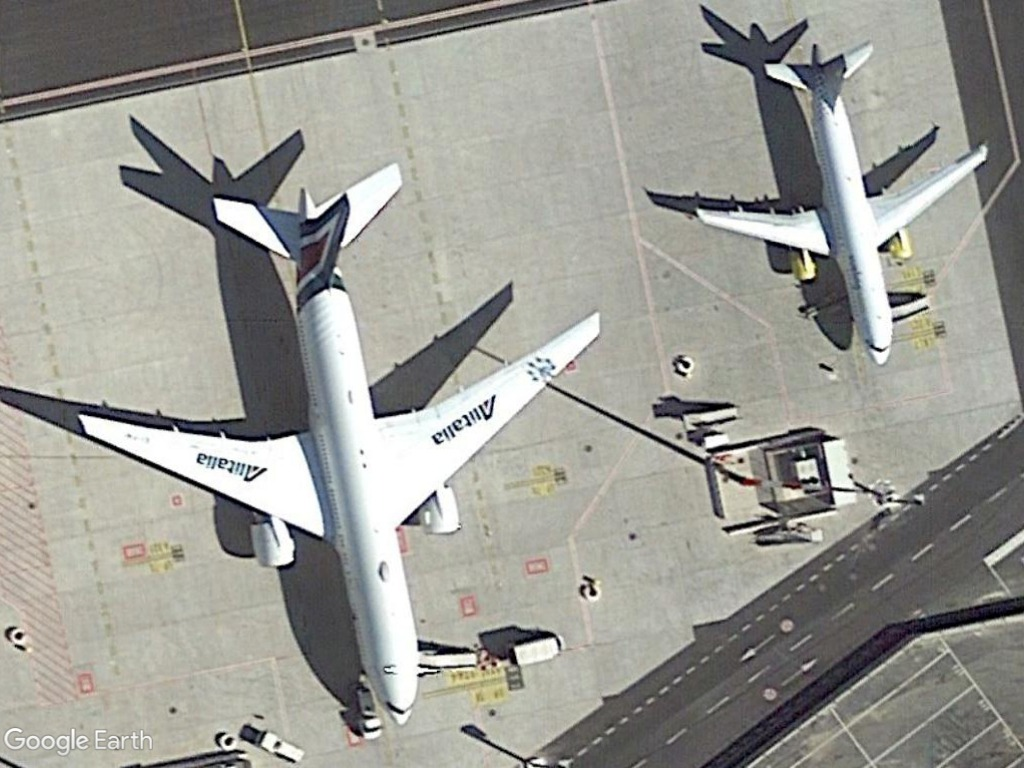airliner: (64, 153, 613, 734), (671, 34, 998, 375)
stairtruck: (670, 401, 749, 436)
truck: (499, 633, 573, 671)
